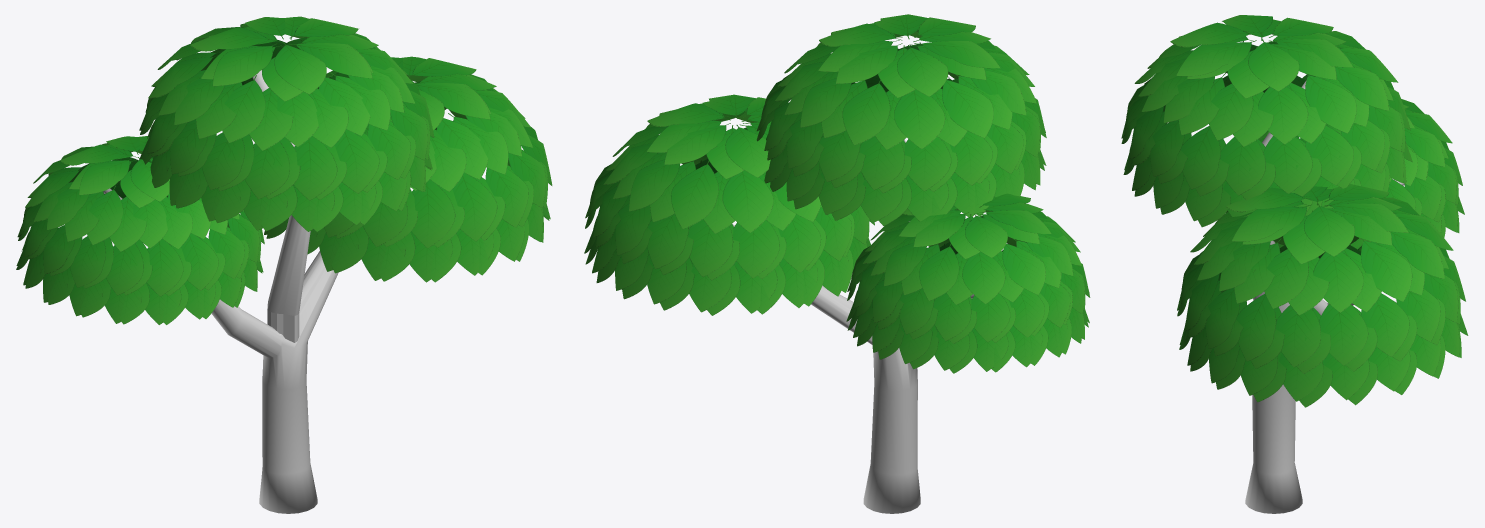
File: Tree07.fbx
The picture shows the model from 3 angles, left to right: view 1: azimuth 30°, elevation 25°; view 2: azimuth 150°, elevation 25°; view 3: azimuth 270°, elevation 25°; orthographic projection.
Parts seen in each view (by area): view 1: Plane026, Cylinder001; view 2: Plane026, Cylinder001; view 3: Plane026, Cylinder001.
Boxes of the visible parts, box(x1,y1,x2,y2) form: Plane026: box(16, 16, 552, 324); Cylinder001: box(103, 70, 338, 513); Plane026: box(584, 14, 1090, 373); Cylinder001: box(732, 139, 974, 513); Plane026: box(1121, 15, 1468, 407); Cylinder001: box(1245, 80, 1404, 513).
Size of the model in its own units: 224 by 205 by 141.
